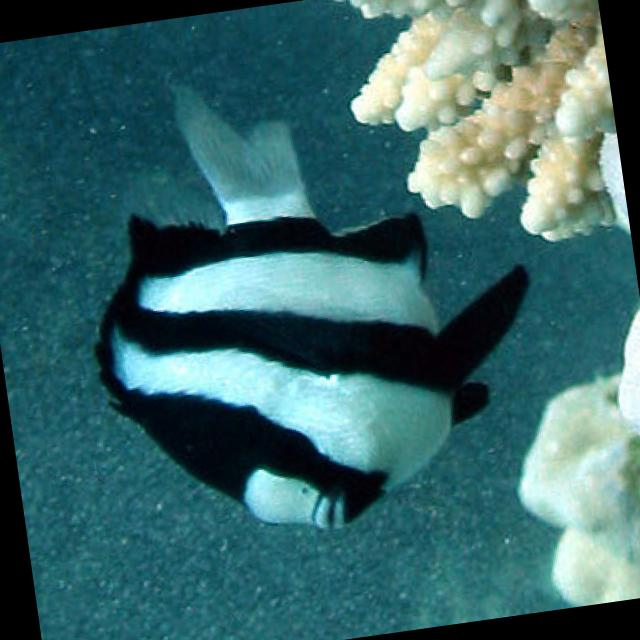ThreeStripedDamselfish: (52, 32, 564, 560)
